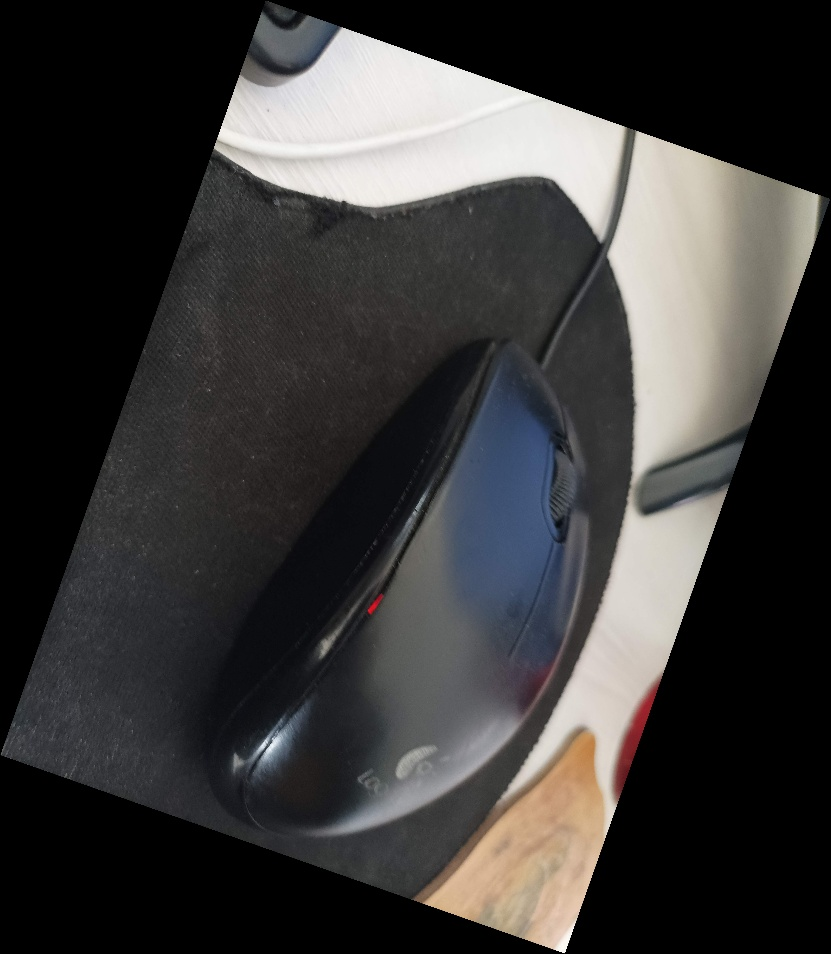mouse: (191, 325, 597, 848)
